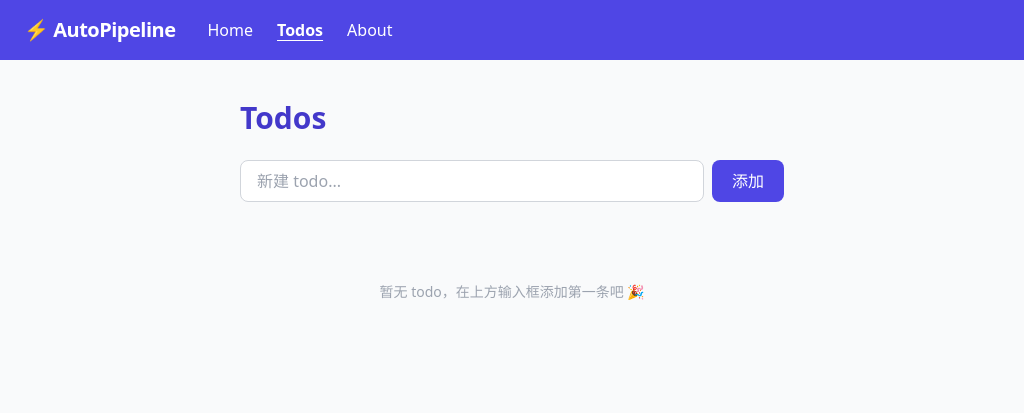
Test: Todos CRUD › 可连续新增多条 todo
The image size is (1024, 413).
Type "Task A" into the field with test id "todo-input". click: [472, 181]
box: [240, 160, 704, 202]
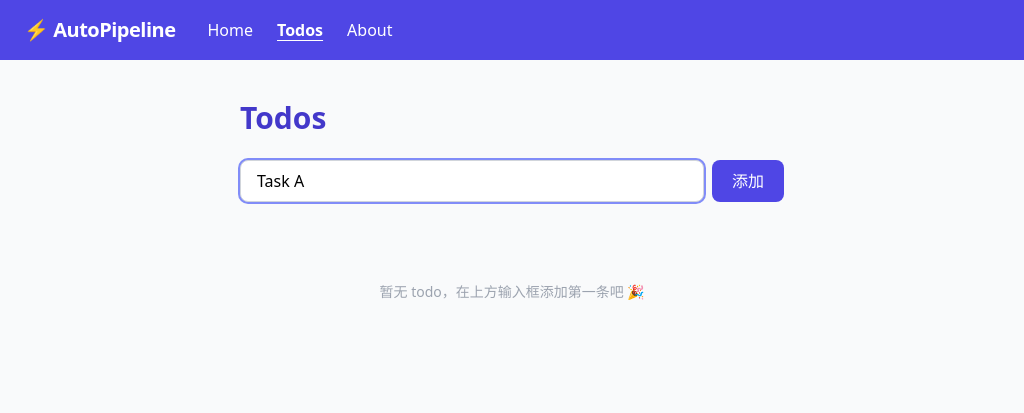
Click the button with test id "todo-submit". click: [748, 181]
box: [712, 160, 784, 202]
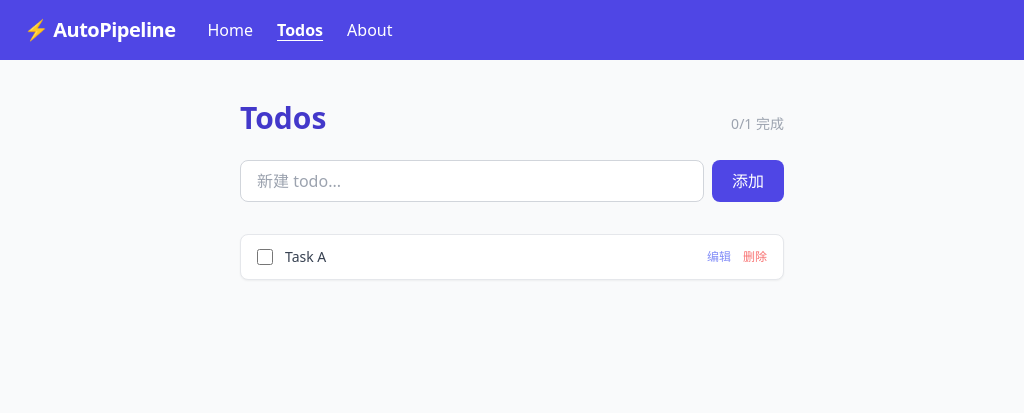
Type "Task B" into the field with test id "todo-input". click: [472, 181]
box: [240, 160, 704, 202]
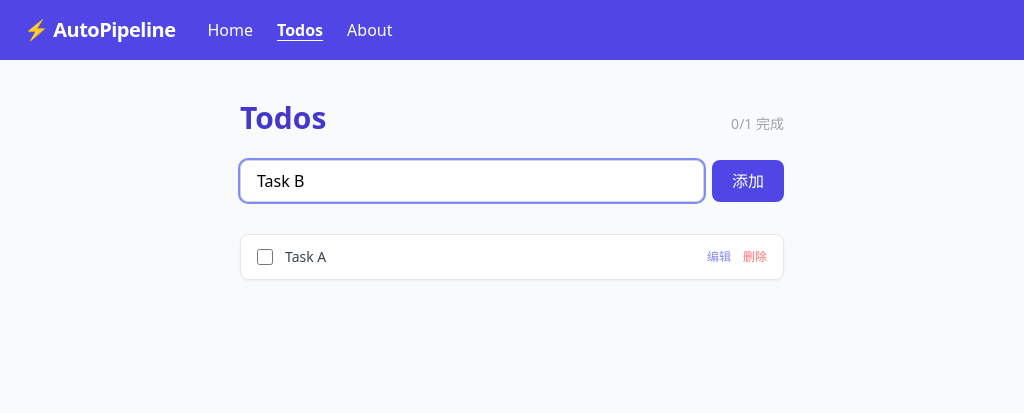
Click the button with test id "todo-submit". click: [748, 181]
box: [712, 160, 784, 202]
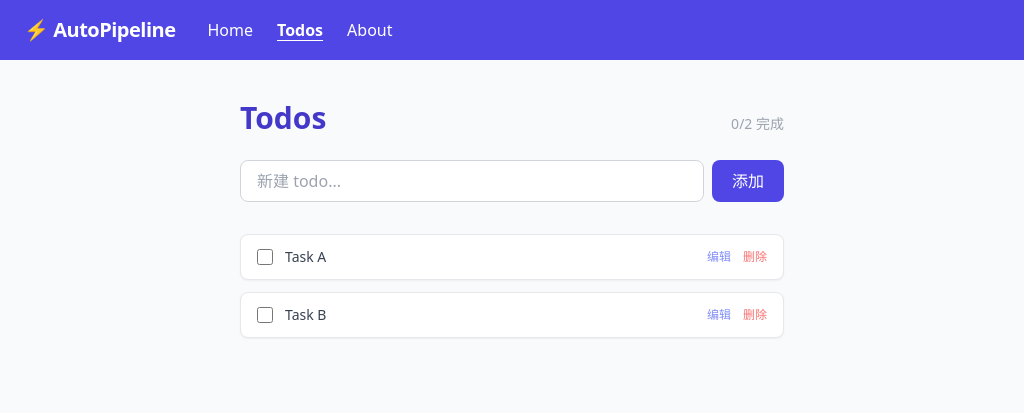
Type "Task C" into the field with test id "todo-input". click: [472, 181]
box: [240, 160, 704, 202]
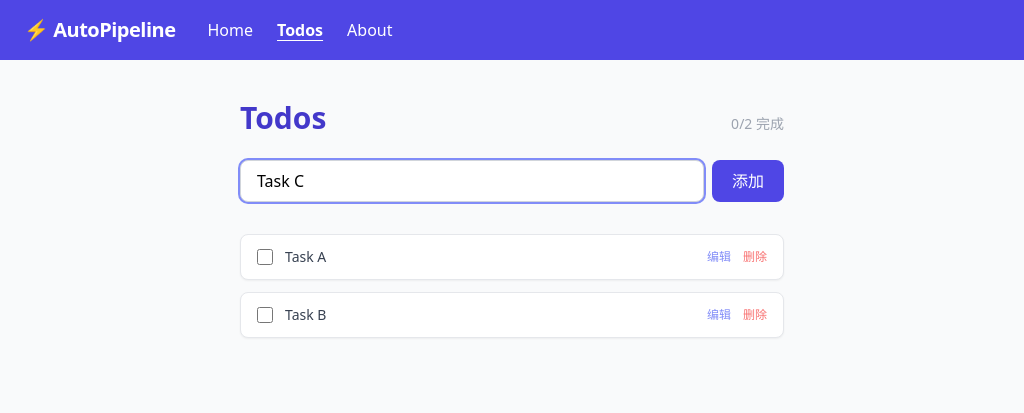
Click the button with test id "todo-submit". click: [748, 181]
box: [712, 160, 784, 202]
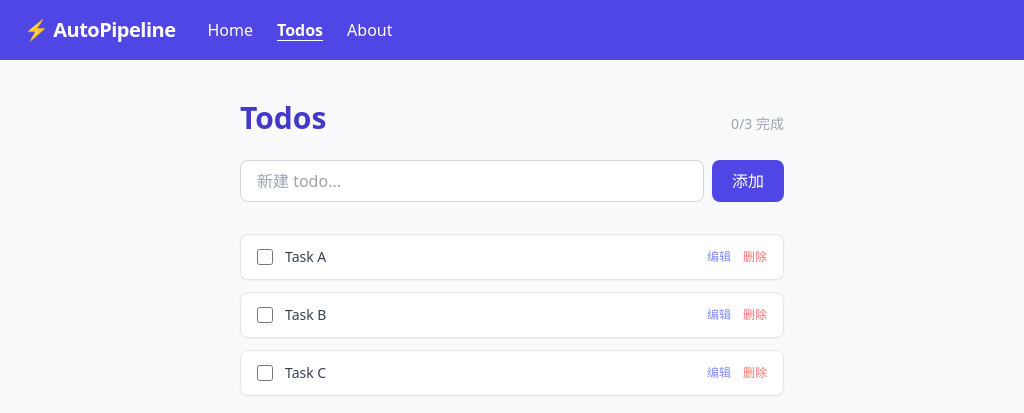
Check: the number of list items with test id "todo-item" is 3, box [240, 234, 784, 280]; [240, 292, 784, 338]; [240, 350, 784, 396]
